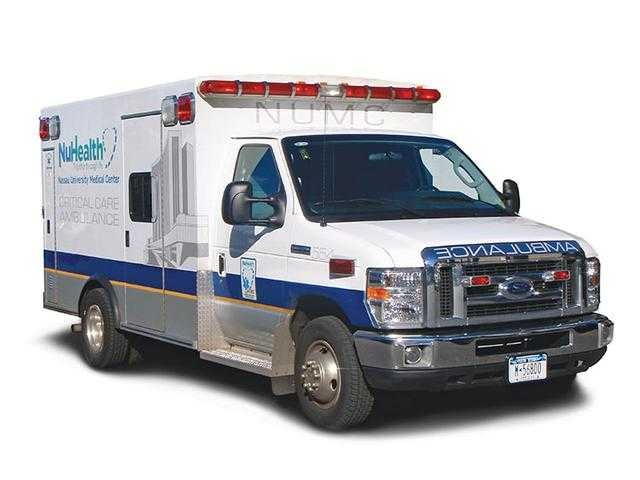Ambulance: (11, 75, 596, 424)
